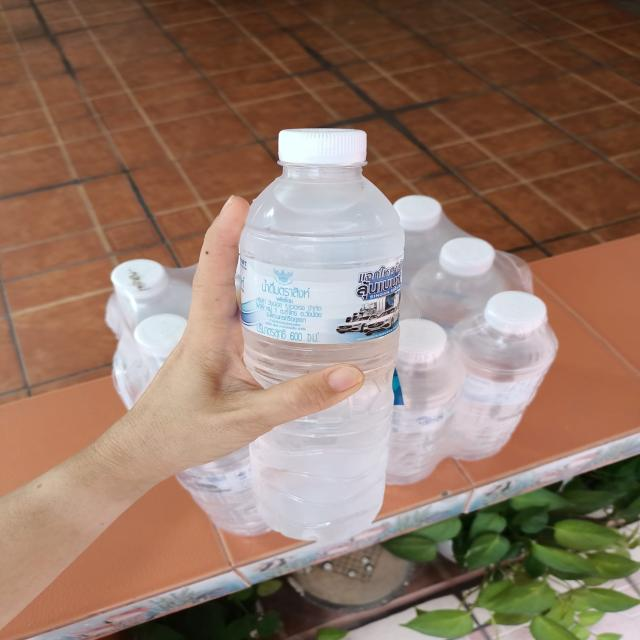bottle: (238, 129, 407, 545)
